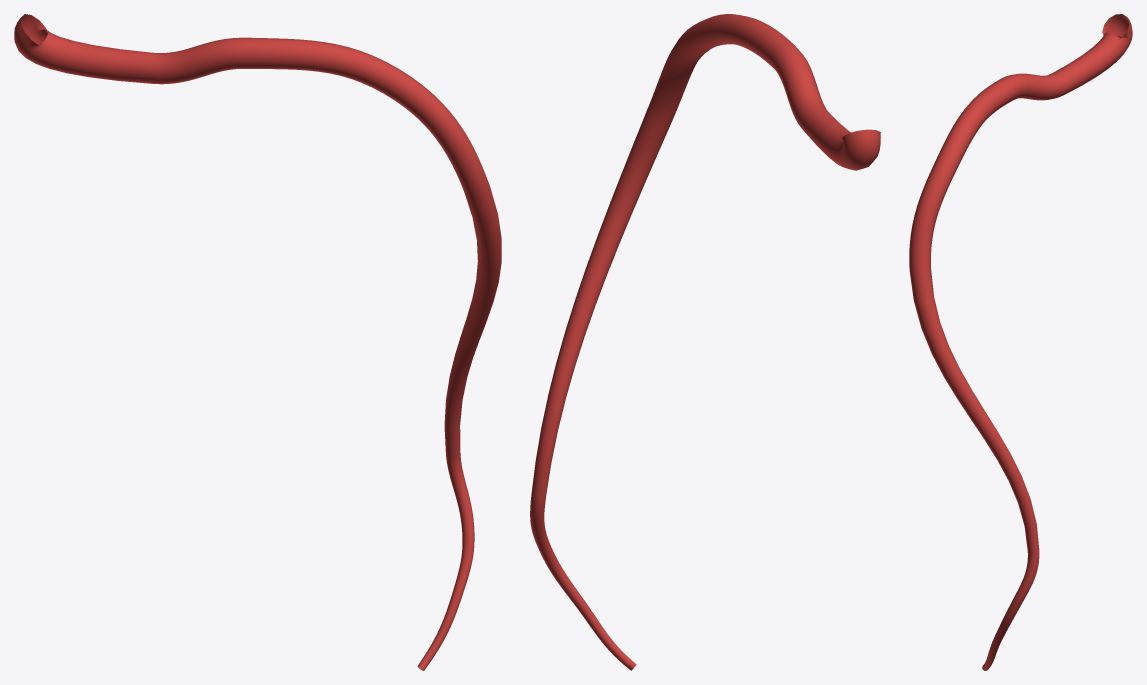
3 renders of one model, left to right at view 1: azimuth 30°, elevation 25°; view 2: azimuth 150°, elevation 25°; view 3: azimuth 270°, elevation 25°, orthographic. The views are drawn at different scales.
Parts seen in each view (by area): view 1: 左侧膝下外侧动脉; view 2: 左侧膝下外侧动脉; view 3: 左侧膝下外侧动脉.
Boxes of the visible parts, <box> form: 左侧膝下外侧动脉: <box>14,14,501,670</box>; 左侧膝下外侧动脉: <box>530,14,880,670</box>; 左侧膝下外侧动脉: <box>909,14,1132,670</box>.
Bounding box in the file's own units: 0.0645 × 0.1044 × 0.0396.
